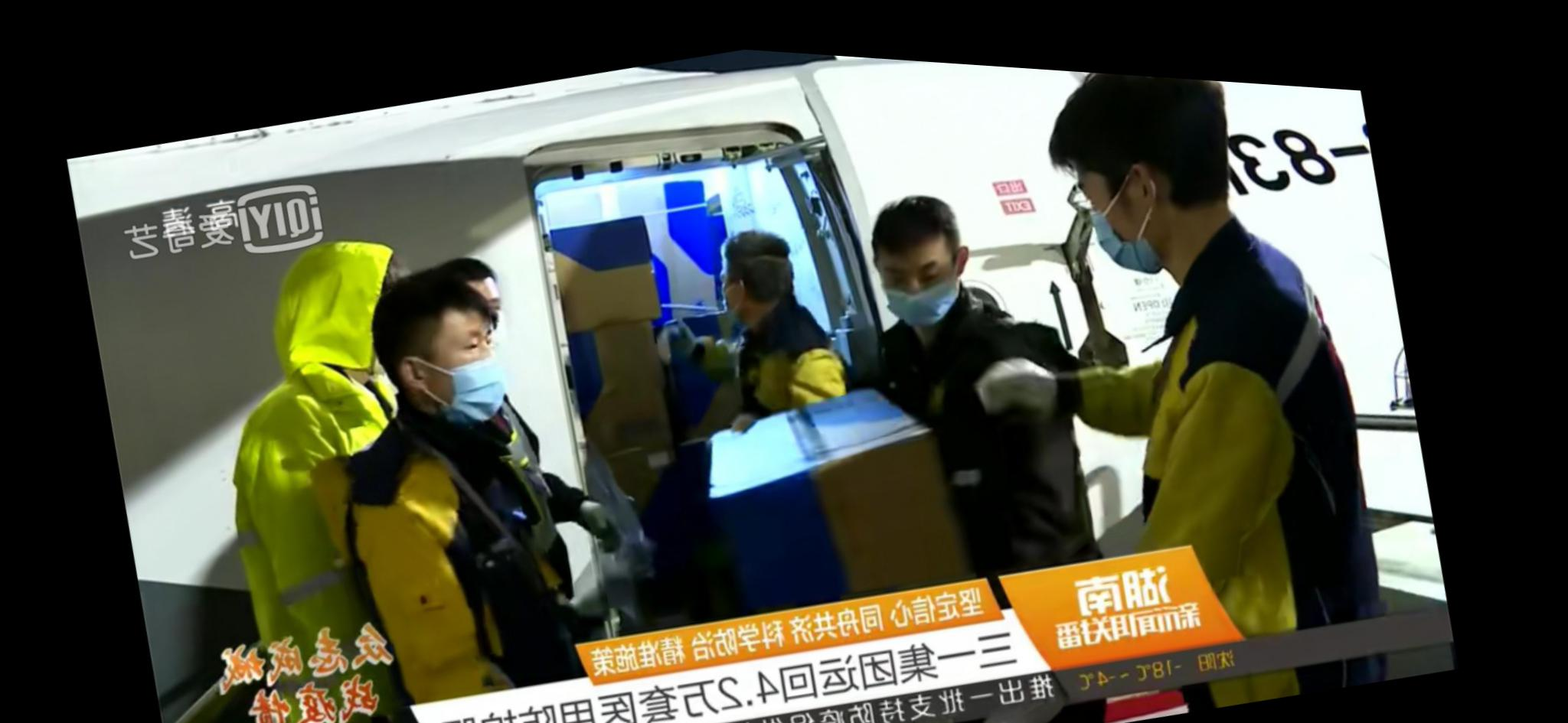OK: (1070, 124, 1180, 272), (427, 303, 521, 425)
WRONG: (876, 223, 969, 322)
